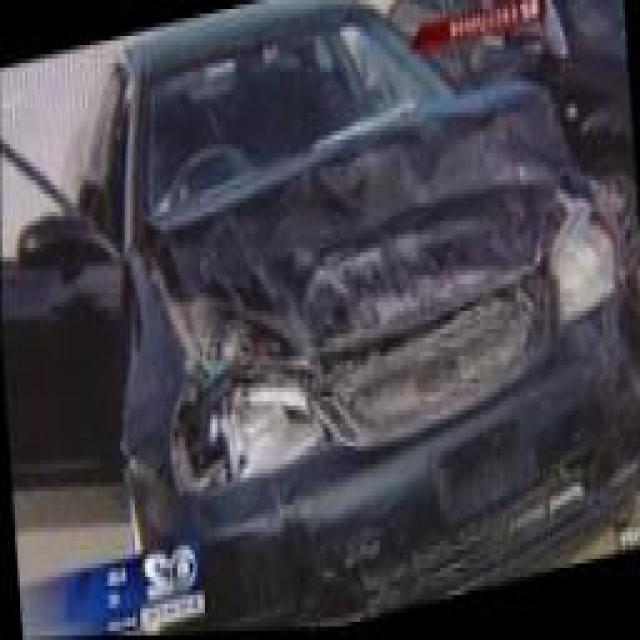Bonnet: (138, 91, 592, 372)
Bumper: (127, 267, 640, 635)
Light: (167, 368, 333, 492), (544, 188, 634, 333)
